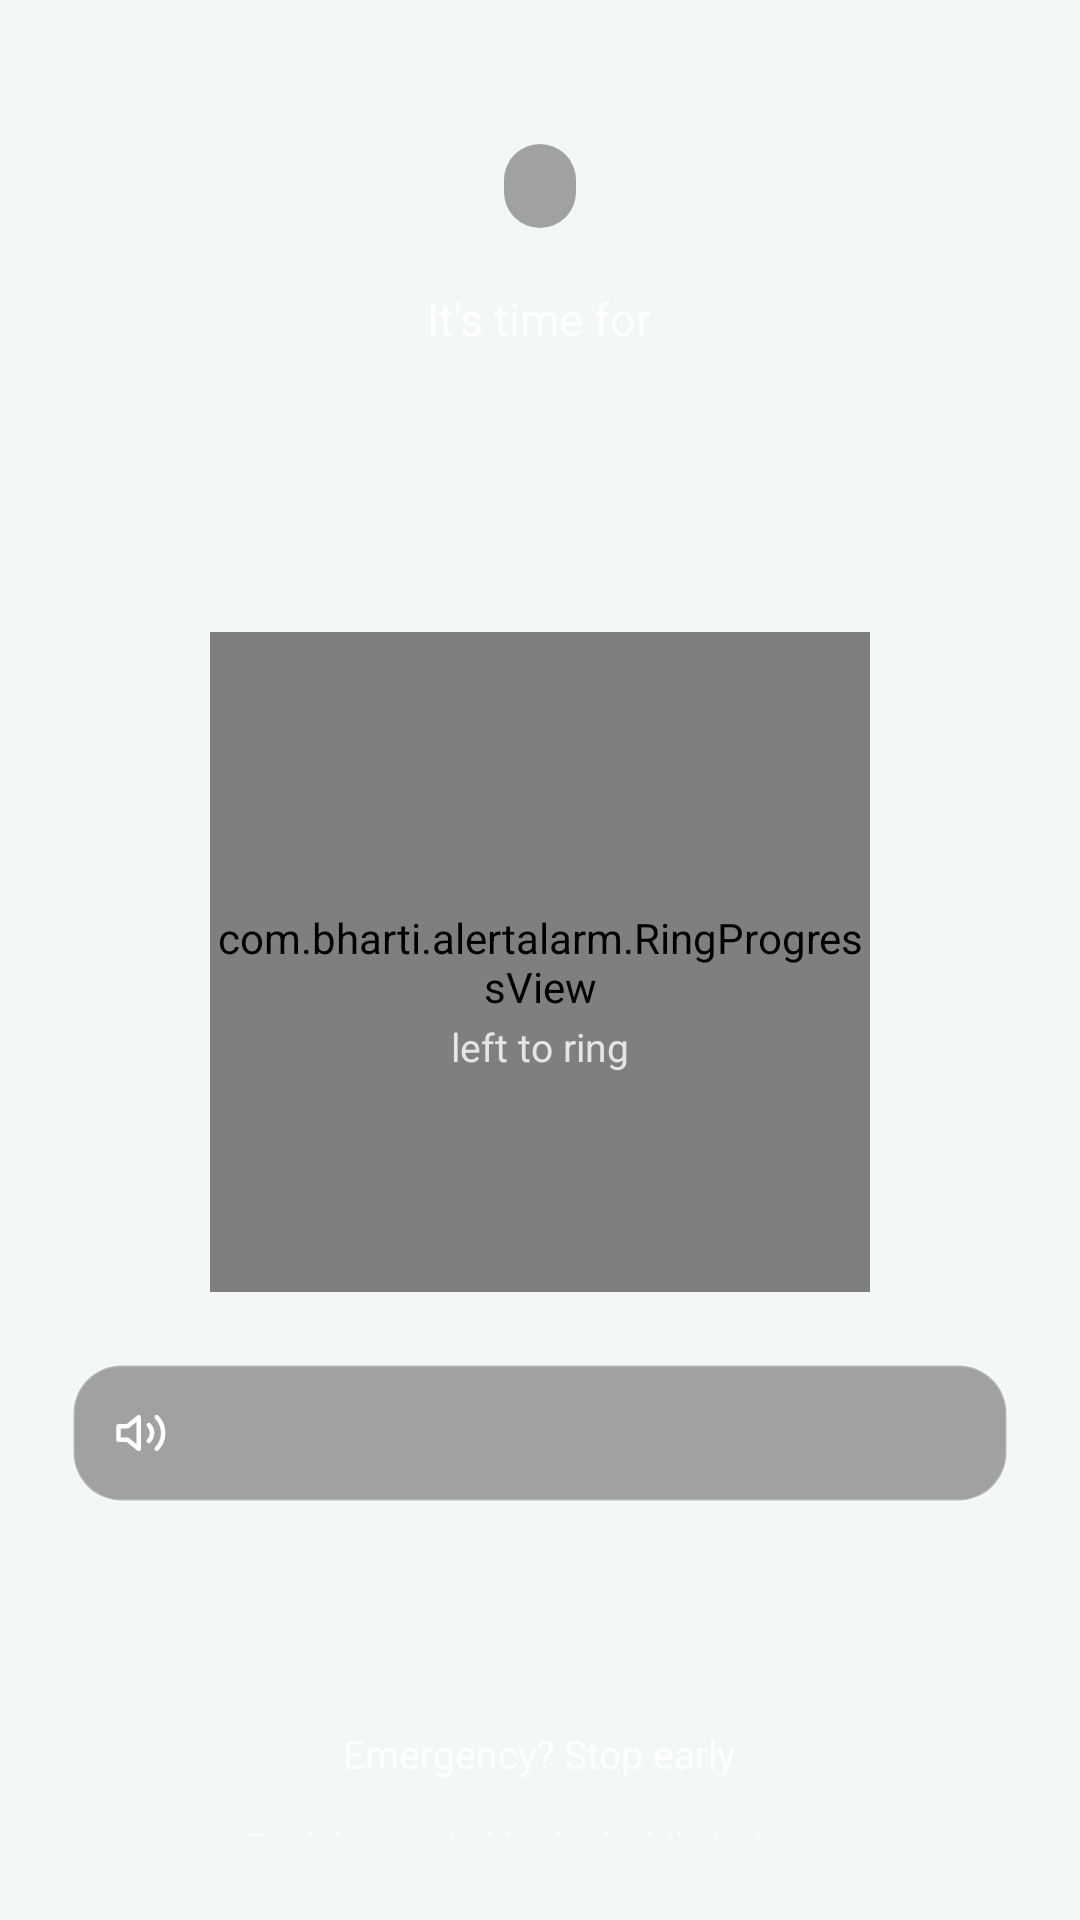

Where icons sit on this 1080px x 1920px app screen, as (x1, y1, x2, y2):
volume: (116, 1415, 166, 1451)
